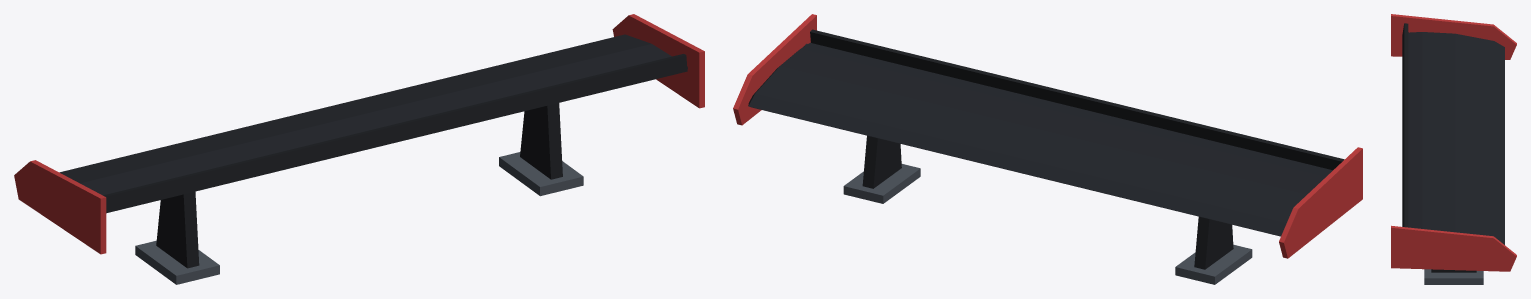
The model's file is spoiler_wing_low.glb.
3 views of the same model, side by side, from view 1: azimuth 30°, elevation 25°; view 2: azimuth 150°, elevation 25°; view 3: azimuth 270°, elevation 25° (orthographic). The views are drawn at different scales.
Visible parts, largest first — view 1: Body; view 2: Body; view 3: Body.
Boxes of the visible parts, x1,y1,x2,y2 form: Body: (14, 14, 704, 284); Body: (733, 14, 1362, 284); Body: (1391, 14, 1516, 284).
Size of the model in its own units: 1.53 by 0.307 by 0.38.
